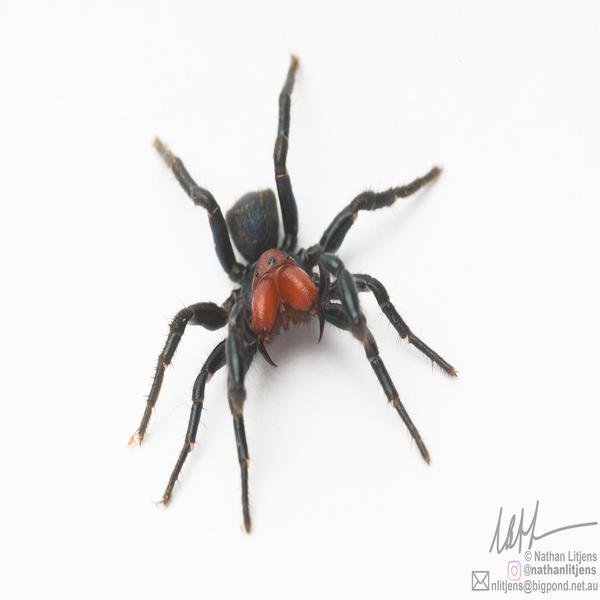Red Headed Mouse Spider: (141, 57, 451, 524)
